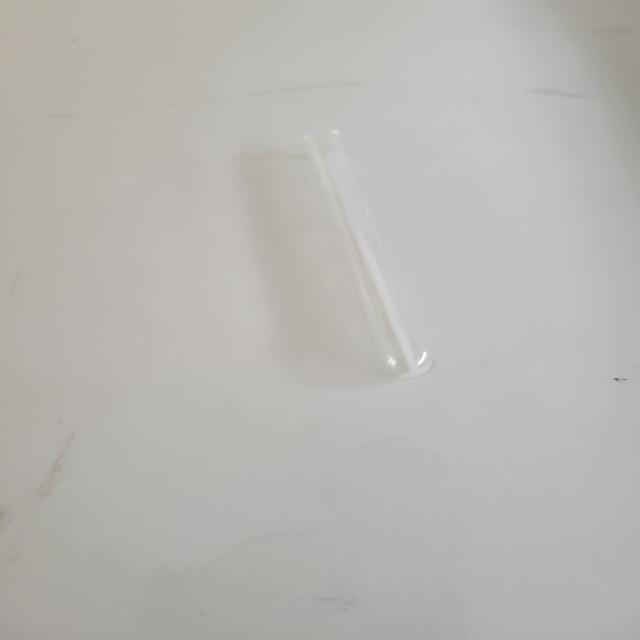Test_Tube: (278, 89, 470, 403)
